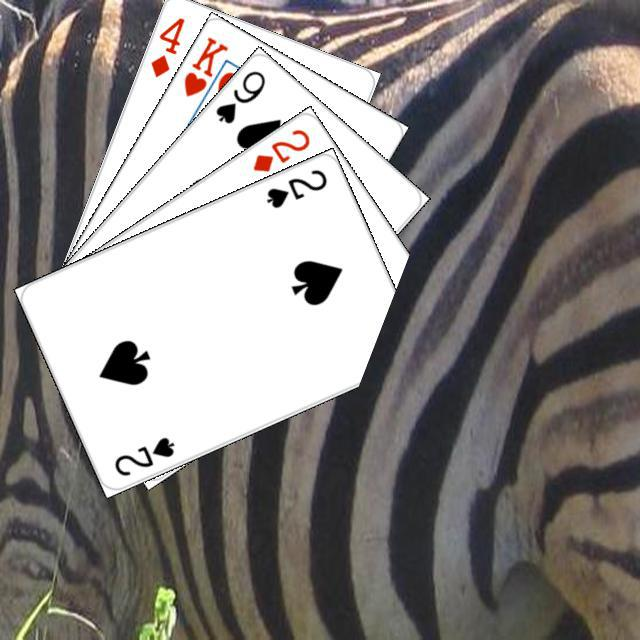2d: (247, 124, 312, 174)
2s: (261, 164, 329, 210), (109, 432, 176, 478)
4d: (145, 12, 187, 79)
9s: (210, 65, 268, 126)
Kh: (178, 31, 233, 112)
